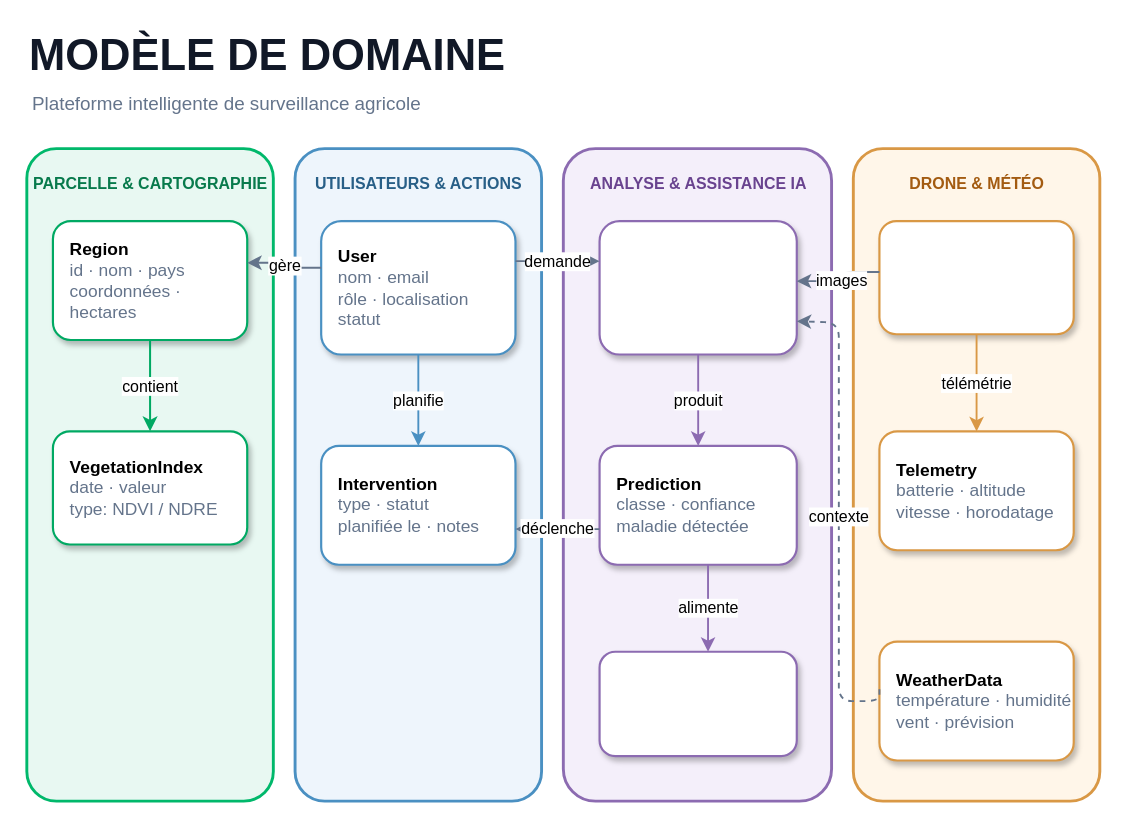
The diagram is 1125 pixels wide and 827 high, and some of its shapes have lost their labels. Each missing label, with the centre of its shape:
"Analysis image · modèle score de santé statut" belongs at (x=699, y=289).
"Assistant IA conversation · message recommandations" belongs at (x=699, y=705).
"DroneFlight départ · durée statut du vol" belongs at (x=977, y=279).
